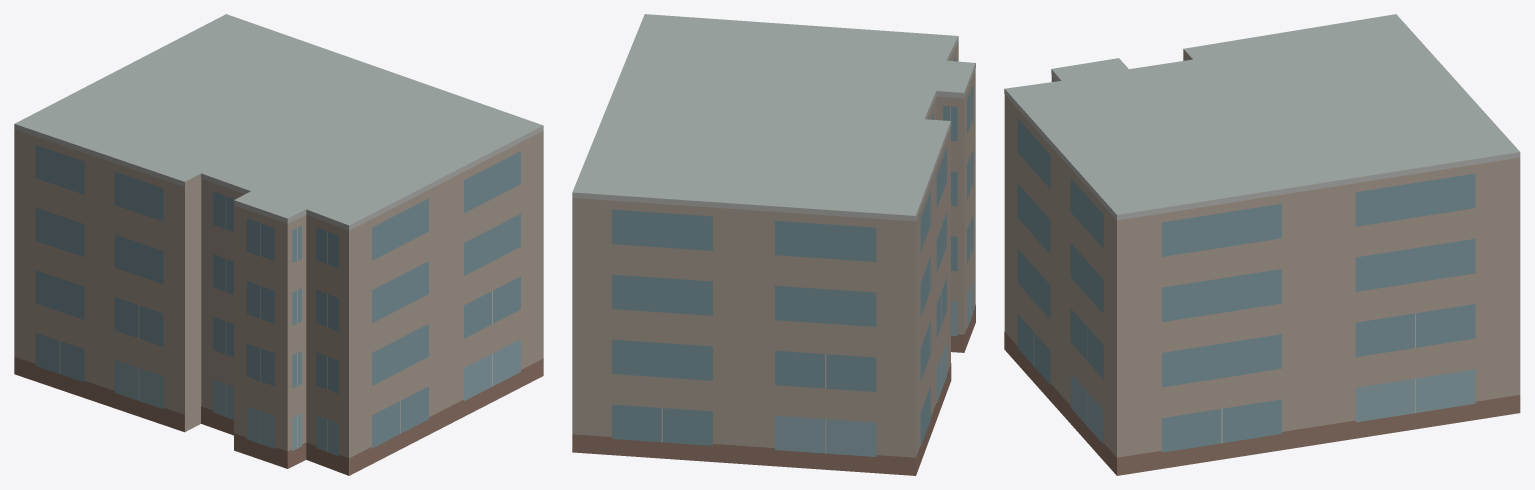
The model's file is survey-upis-33037217.glb.
The picture shows the model from 3 angles, left to right: view 1: azimuth 30°, elevation 25°; view 2: azimuth 150°, elevation 25°; view 3: azimuth 270°, elevation 25°; orthographic projection. The views are drawn at different scales.
Visible parts, largest first — view 1: survey-upis-33037217.tmp; view 2: survey-upis-33037217.tmp; view 3: survey-upis-33037217.tmp.
Boxes of the visible parts, box(x1,y1,x2,y2) form: survey-upis-33037217.tmp: box(14, 14, 543, 475); survey-upis-33037217.tmp: box(572, 14, 975, 475); survey-upis-33037217.tmp: box(1004, 14, 1520, 475).
Size of the model in its own units: 19.17 by 11.6 by 20.79.
